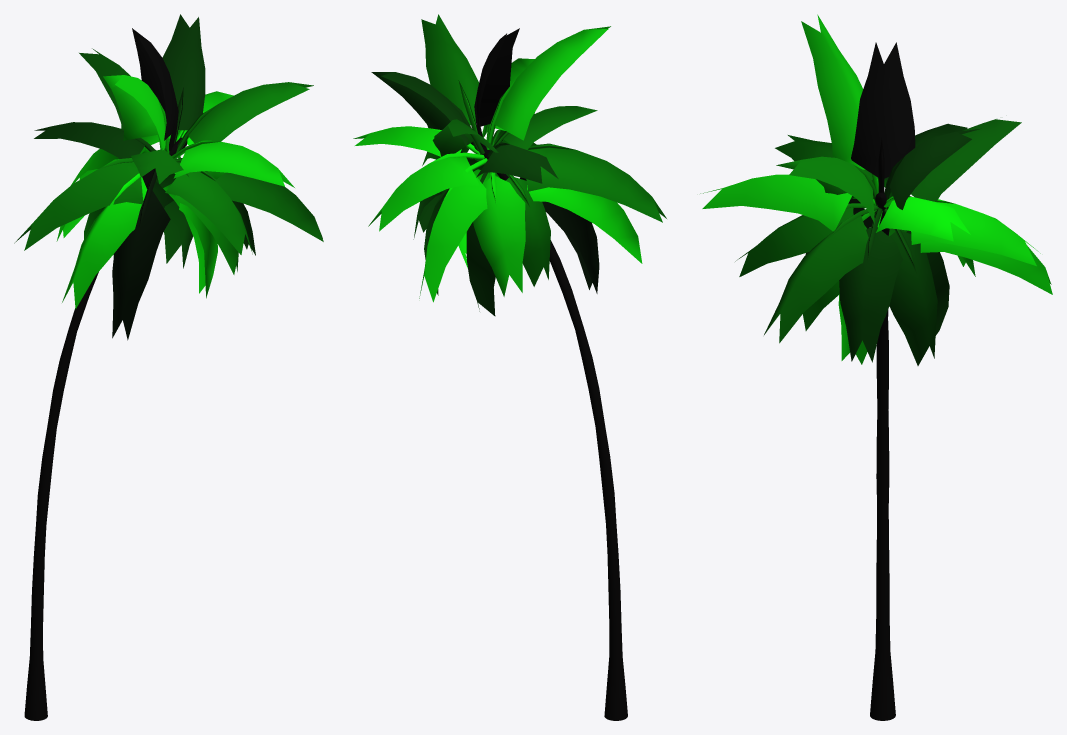
The model's file is M_P10_Tree_13.fbx.
The picture shows the model from 3 angles, left to right: view 1: azimuth 30°, elevation 25°; view 2: azimuth 150°, elevation 25°; view 3: azimuth 270°, elevation 25°; orthographic projection. The views are drawn at different scales.
Visible parts, largest first — view 1: Palm_2_5; view 2: Palm_2_5; view 3: Palm_2_5.
Boxes of the visible parts, <box> form: Palm_2_5: <box>14,14,323,720</box>; Palm_2_5: <box>353,14,666,720</box>; Palm_2_5: <box>700,14,1052,720</box>.
Size of the model in its own units: 274 by 629 by 279.
